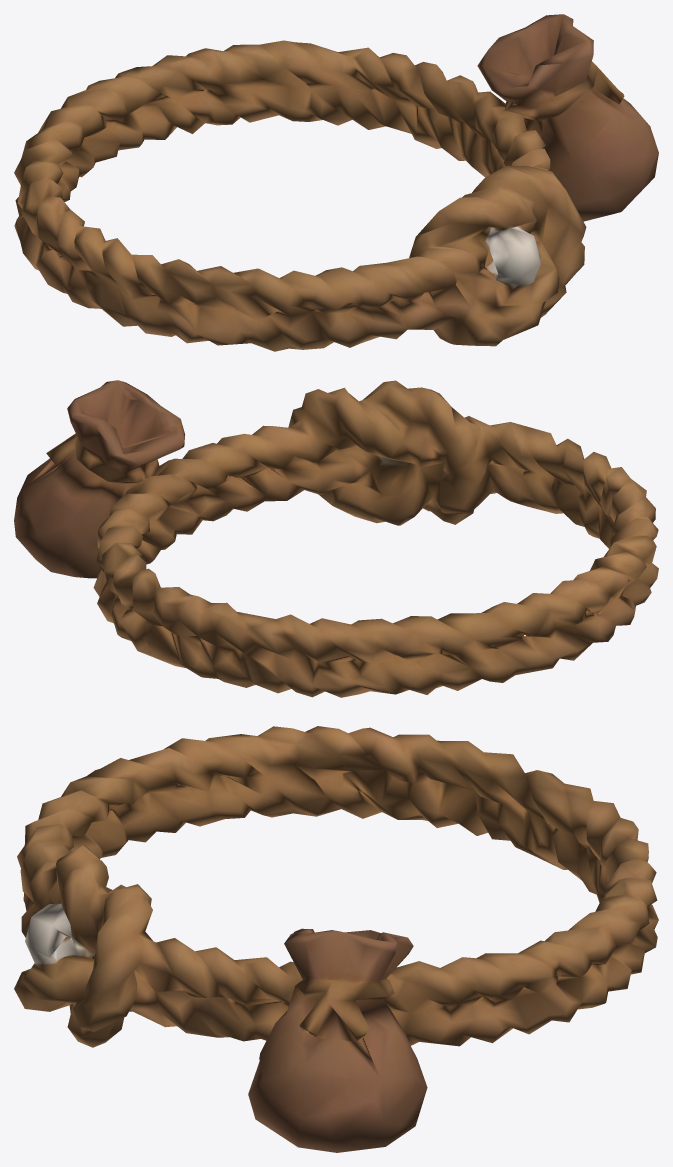
File: loot_belt_rope-DnUrDNA5.glb
The picture shows the model from 3 angles, top to bottom: view 1: azimuth 30°, elevation 25°; view 2: azimuth 150°, elevation 25°; view 3: azimuth 270°, elevation 25°; orthographic projection. The views are drawn at different scales.
Parts seen in each view (by area): view 1: tripo_node_5fb9047f-7b71-43cf-a6ab-0ff13bd75681; view 2: tripo_node_5fb9047f-7b71-43cf-a6ab-0ff13bd75681; view 3: tripo_node_5fb9047f-7b71-43cf-a6ab-0ff13bd75681.
Boxes of the visible parts, box(x1,y1,x2,y2) form: tripo_node_5fb9047f-7b71-43cf-a6ab-0ff13bd75681: box(14, 14, 658, 351); tripo_node_5fb9047f-7b71-43cf-a6ab-0ff13bd75681: box(14, 380, 658, 697); tripo_node_5fb9047f-7b71-43cf-a6ab-0ff13bd75681: box(14, 726, 658, 1152).
Size of the model in its own units: 1 by 0.2953 by 0.8316.
Materials: 1 (1 with a texture image).
